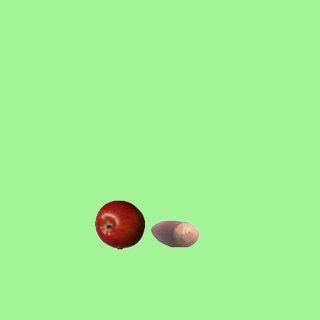Apple Braeburn: (94, 199, 144, 249)
Hazelnut: (149, 208, 199, 258)
